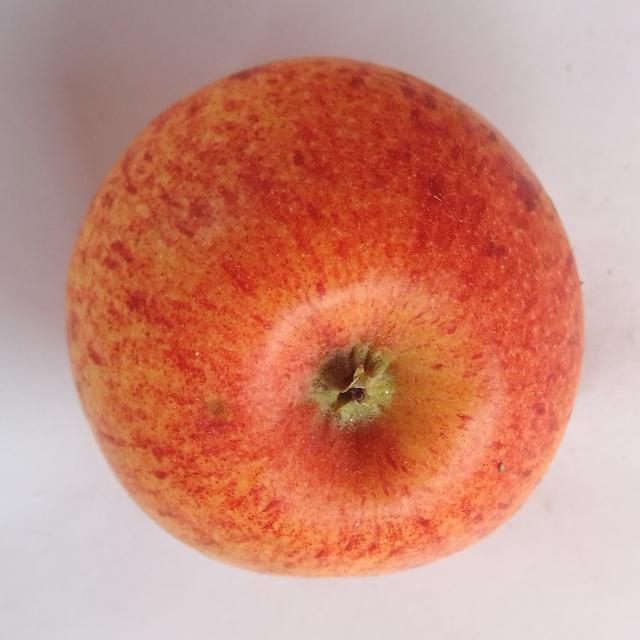Fresh Apple: (57, 47, 590, 590)
